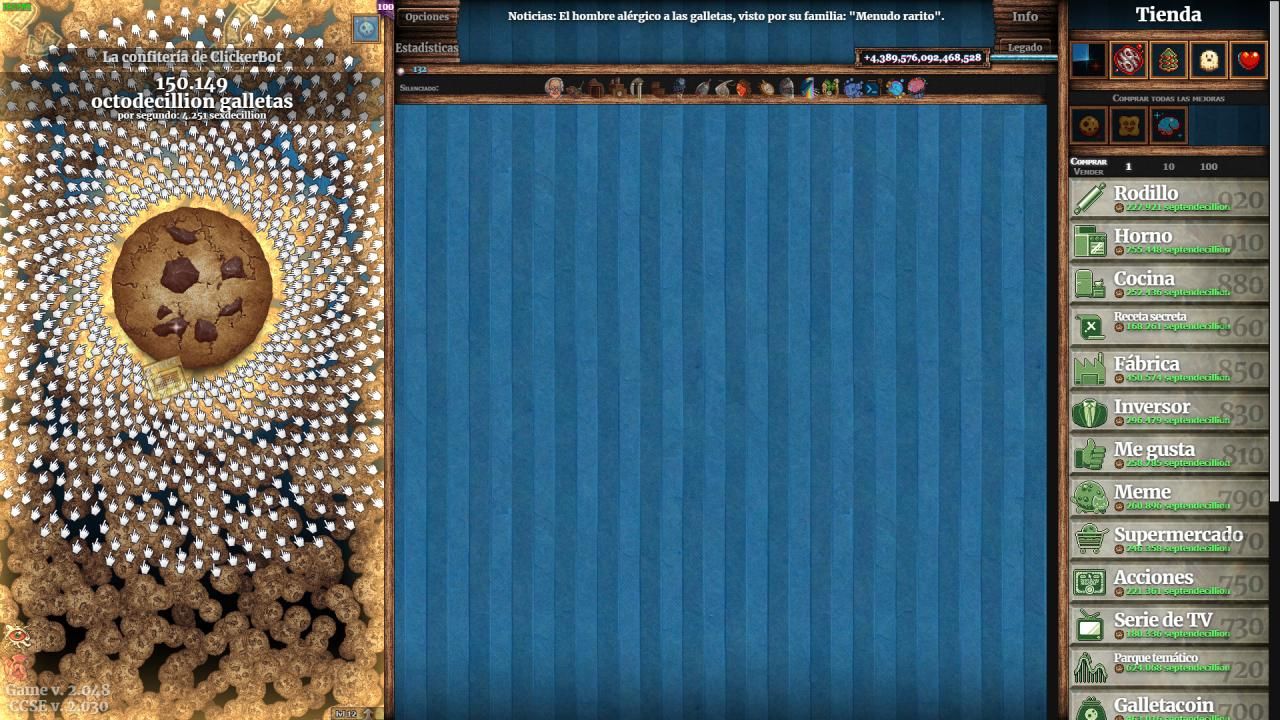GoldenCartridge: (139, 354, 191, 402)
